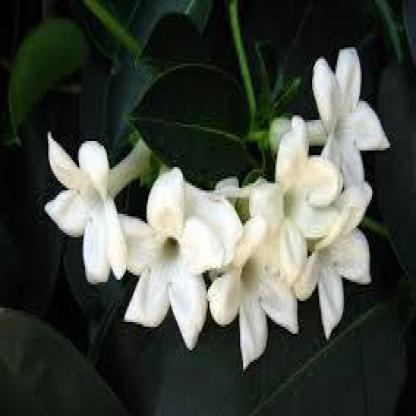Melati: (30, 25, 394, 340)
